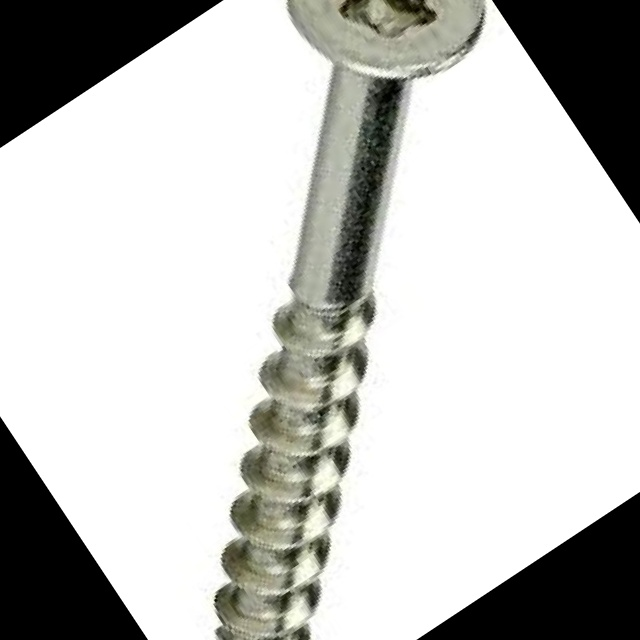torx: (260, 0, 510, 127)
